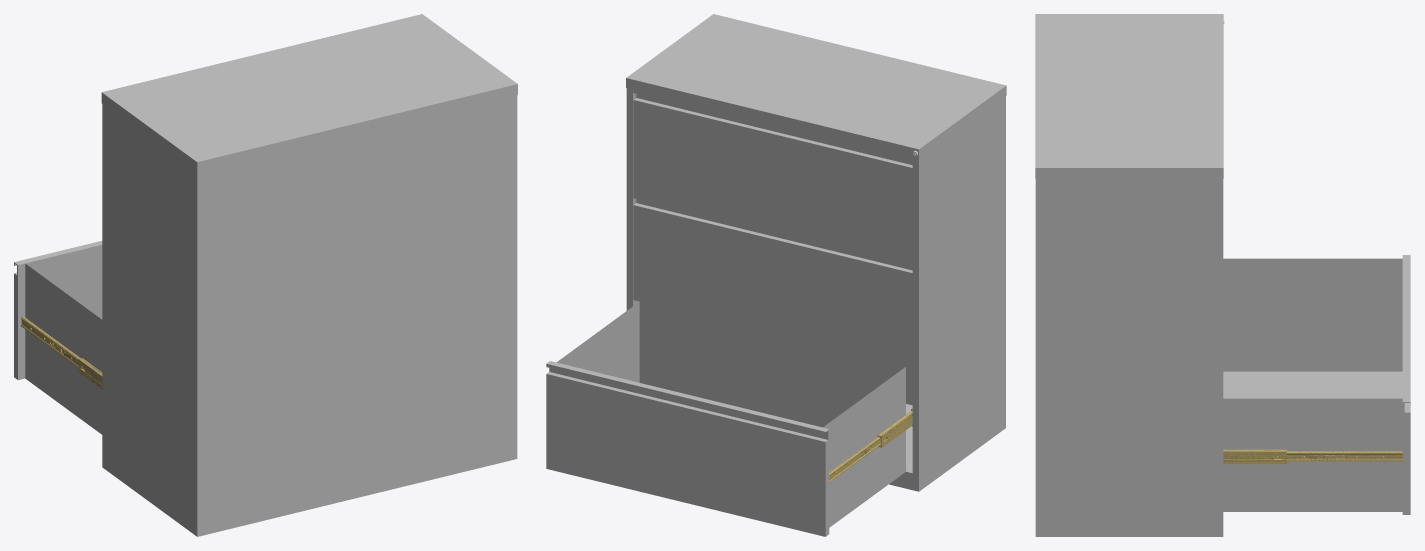
The picture shows the model from 3 angles, left to right: view 1: azimuth 30°, elevation 25°; view 2: azimuth 150°, elevation 25°; view 3: azimuth 270°, elevation 25°; orthographic projection. The views are drawn at different scales.
Visible parts, largest first — view 1: mesh1_mesh1-geometry, mesh13_mesh13-geometry, mesh20_mesh20-geometry, mesh2_mesh2-geometry, mesh5_mesh5-geometry; view 2: mesh1_mesh1-geometry, mesh2_mesh2-geometry, mesh13_mesh13-geometry, mesh20_mesh20-geometry, mesh5_mesh5-geometry, mesh4_mesh4-geometry; view 3: mesh1_mesh1-geometry, mesh2_mesh2-geometry, mesh10_mesh10-geometry, mesh9_mesh9-geometry.
Part boxes in pixels (x1,y1,x2,y2): mesh1_mesh1-geometry: [101, 14, 517, 536]; mesh13_mesh13-geometry: [211, 216, 503, 399]; mesh20_mesh20-geometry: [211, 105, 503, 283]; mesh2_mesh2-geometry: [14, 241, 102, 434]; mesh5_mesh5-geometry: [21, 317, 84, 370]; mesh1_mesh1-geometry: [626, 14, 1006, 491]; mesh2_mesh2-geometry: [546, 301, 905, 536]; mesh13_mesh13-geometry: [633, 195, 912, 367]; mesh20_mesh20-geometry: [633, 90, 912, 262]; mesh5_mesh5-geometry: [829, 437, 886, 482]; mesh4_mesh4-geometry: [877, 410, 912, 447]; mesh1_mesh1-geometry: [1035, 14, 1223, 536]; mesh2_mesh2-geometry: [1223, 255, 1410, 514]; mesh10_mesh10-geometry: [1274, 451, 1402, 461]; mesh9_mesh9-geometry: [1223, 449, 1286, 464].
Bounding box in the file's own units: 0.5497 × 0.6142 × 0.5662.
